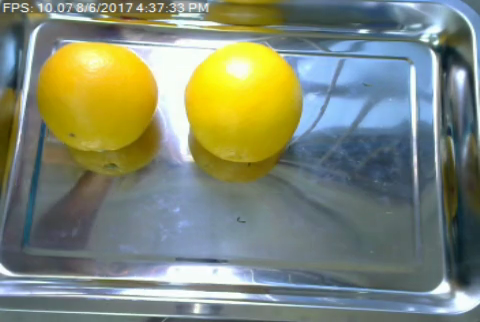Orange: (184, 44, 304, 164), (35, 41, 158, 151)
